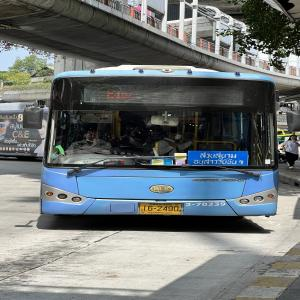BMTA-bus: (39, 66, 279, 219)
Bus Line Number: (198, 86, 242, 104)
Bus Side Number: (185, 200, 229, 207)
Destination Sign: (188, 150, 249, 167)
